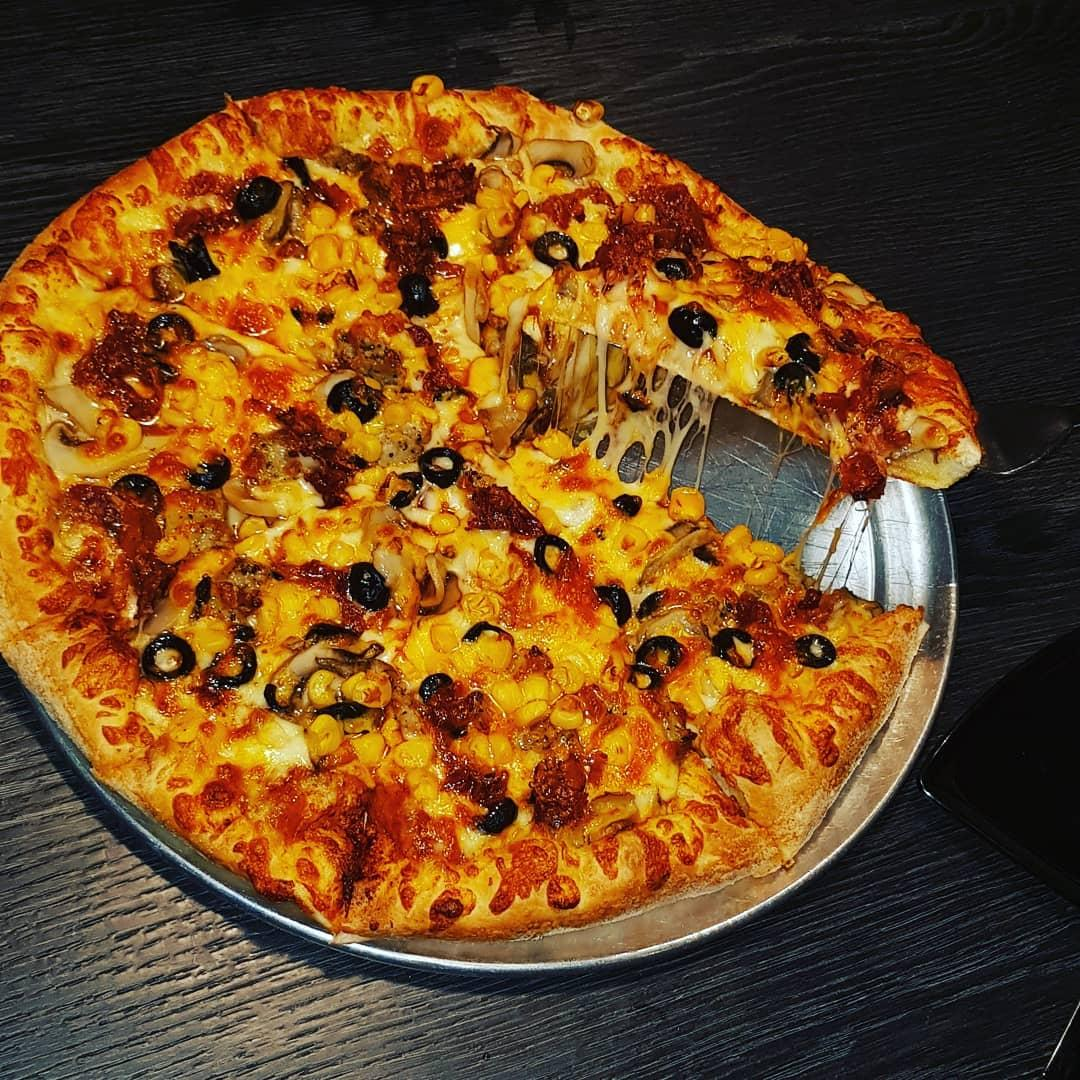Corn: (334, 665, 397, 707), (657, 674, 717, 712), (300, 714, 346, 762), (461, 351, 504, 399), (394, 728, 439, 772), (348, 726, 390, 770), (666, 486, 711, 527), (600, 718, 636, 769), (538, 698, 591, 732), (463, 586, 505, 628), (469, 544, 514, 583), (689, 652, 735, 689), (606, 523, 650, 561), (301, 661, 337, 707), (265, 661, 302, 704), (474, 633, 518, 669), (271, 526, 313, 563), (194, 391, 231, 433), (345, 430, 389, 465), (909, 415, 951, 451), (631, 501, 673, 536), (639, 464, 671, 508), (506, 695, 550, 727), (527, 270, 558, 315), (754, 230, 805, 257), (487, 675, 529, 707), (373, 718, 411, 753), (305, 231, 339, 270), (250, 716, 291, 748), (379, 397, 416, 432), (532, 423, 570, 457), (229, 526, 268, 559), (565, 214, 614, 240), (401, 393, 443, 423), (305, 201, 344, 233), (715, 521, 755, 552), (487, 730, 518, 769), (334, 236, 364, 276), (512, 369, 545, 405), (327, 405, 366, 435), (522, 669, 556, 703), (322, 536, 359, 567), (460, 732, 493, 766), (110, 417, 145, 449), (224, 515, 267, 540), (814, 299, 848, 330), (441, 647, 480, 674), (328, 285, 364, 314), (174, 372, 203, 408), (476, 188, 514, 215), (426, 512, 463, 539), (737, 243, 774, 269), (742, 557, 777, 584), (576, 239, 611, 266), (339, 714, 378, 738), (527, 160, 560, 188), (720, 543, 758, 567), (627, 201, 666, 224), (482, 205, 511, 234), (515, 212, 557, 232), (356, 272, 384, 299), (747, 542, 783, 561), (423, 620, 451, 644), (540, 677, 564, 703)
Mushroom: (264, 619, 390, 692), (40, 408, 147, 465), (636, 517, 722, 581), (514, 132, 602, 180), (256, 179, 307, 253), (477, 392, 532, 458), (217, 479, 304, 520), (414, 543, 462, 612), (458, 261, 496, 347), (582, 789, 638, 844), (197, 330, 259, 375), (473, 123, 517, 167)
Olives: (134, 630, 202, 688), (407, 439, 474, 497), (162, 230, 228, 287), (202, 633, 265, 691), (228, 168, 291, 222), (663, 293, 721, 348), (528, 529, 582, 584), (178, 446, 238, 493), (142, 308, 199, 357), (319, 380, 385, 422), (526, 228, 581, 278), (350, 559, 396, 616), (390, 267, 442, 314), (633, 586, 695, 623), (635, 632, 687, 676), (478, 788, 520, 842), (109, 463, 165, 502), (771, 363, 817, 409), (591, 575, 631, 626), (380, 465, 427, 506), (716, 625, 762, 666), (275, 145, 317, 187), (794, 635, 837, 674), (783, 333, 825, 371), (653, 247, 694, 284), (416, 667, 460, 701), (186, 575, 223, 614), (625, 660, 664, 696), (458, 622, 513, 645), (606, 487, 642, 517)
Pizza: (0, 69, 986, 944)
